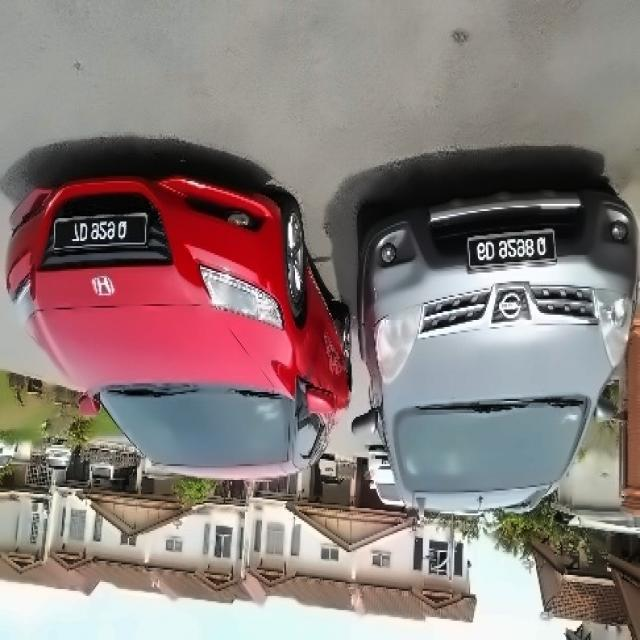car-plate: (464, 226, 558, 278), (58, 209, 150, 251)
